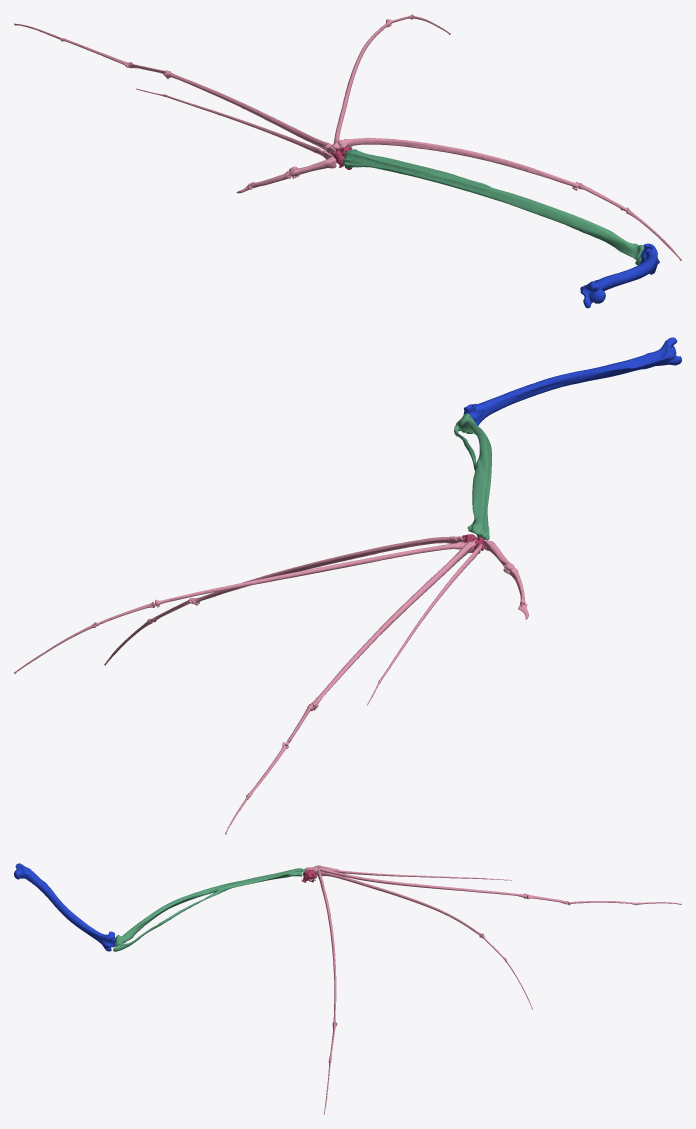
The model's file is Bat_Forearm_Color2.glb.
The picture shows the model from 3 angles, top to bottom: view 1: azimuth 30°, elevation 25°; view 2: azimuth 150°, elevation 25°; view 3: azimuth 270°, elevation 25°; orthographic projection. The views are drawn at different scales.
Parts seen in each view (by area): view 1: Vampire-bar-UF-mamm-9818-000476294; view 2: Vampire-bar-UF-mamm-9818-000476294; view 3: Vampire-bar-UF-mamm-9818-000476294.
Part boxes in pixels (x1,y1,x2,y2): Vampire-bar-UF-mamm-9818-000476294: [14, 14, 681, 308]; Vampire-bar-UF-mamm-9818-000476294: [14, 337, 681, 834]; Vampire-bar-UF-mamm-9818-000476294: [14, 863, 681, 1114].
Bounding box in the file's own units: 1.3 × 0.6614 × 2.69.
